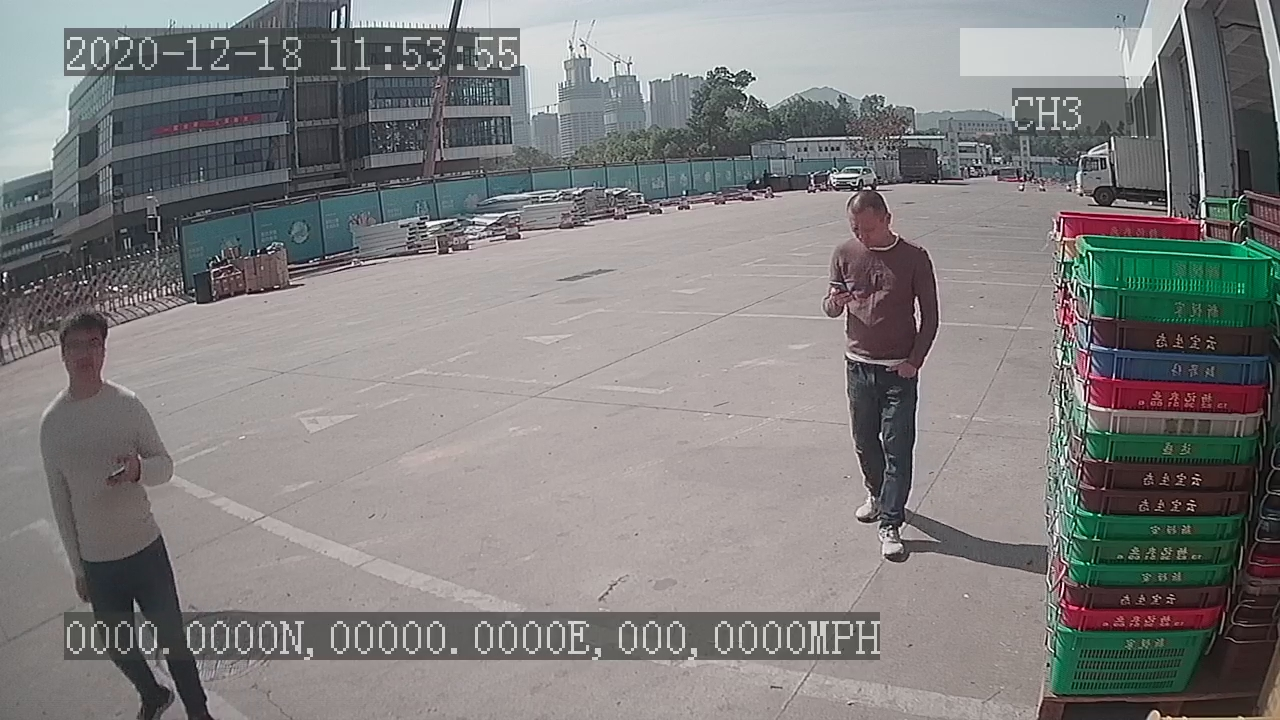person: (817, 183, 947, 567)
